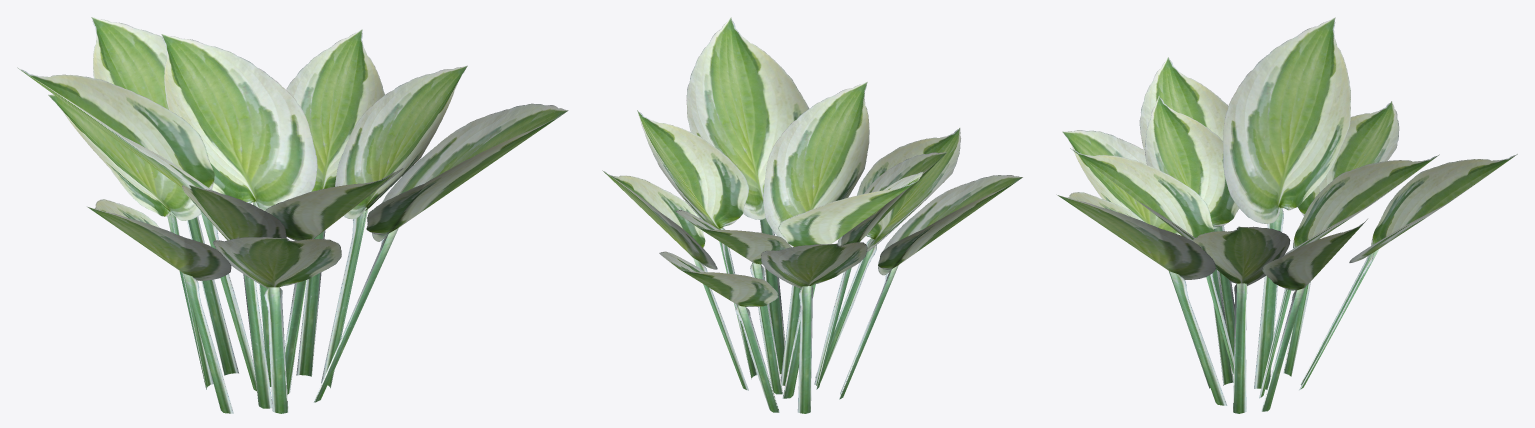
File: plant_small_wg_02B.fbx
The picture shows the model from 3 angles, left to right: view 1: azimuth 30°, elevation 25°; view 2: azimuth 150°, elevation 25°; view 3: azimuth 270°, elevation 25°; orthographic projection. The views are drawn at different scales.
Parts seen in each view (by area): view 1: plant_small_wg_02B; view 2: plant_small_wg_02B; view 3: plant_small_wg_02B.
Part boxes in pixels (left/top/right/bottom): plant_small_wg_02B: left=17, top=17, right=568, bottom=413; plant_small_wg_02B: left=602, top=17, right=1022, bottom=413; plant_small_wg_02B: left=1056, top=17, right=1517, bottom=413.
Size of the model in its own units: 66.91 by 51.08 by 73.97.
